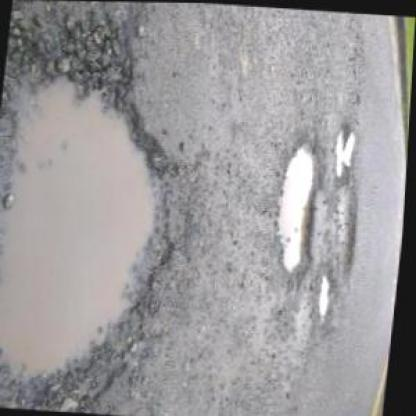pothole: (0, 19, 202, 414), (273, 136, 327, 284), (337, 184, 363, 282), (334, 125, 361, 180), (316, 269, 340, 327)
